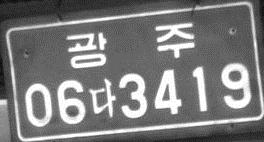0: (24, 82, 52, 127)
1: (187, 67, 215, 112)
3: (118, 72, 147, 119)
4: (154, 69, 182, 114)
6: (57, 79, 86, 125)
9: (220, 62, 251, 108)
광주_D: (66, 21, 194, 68)
다: (88, 77, 116, 118)
